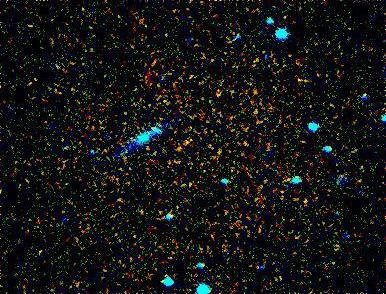star: (247, 39, 277, 69)
